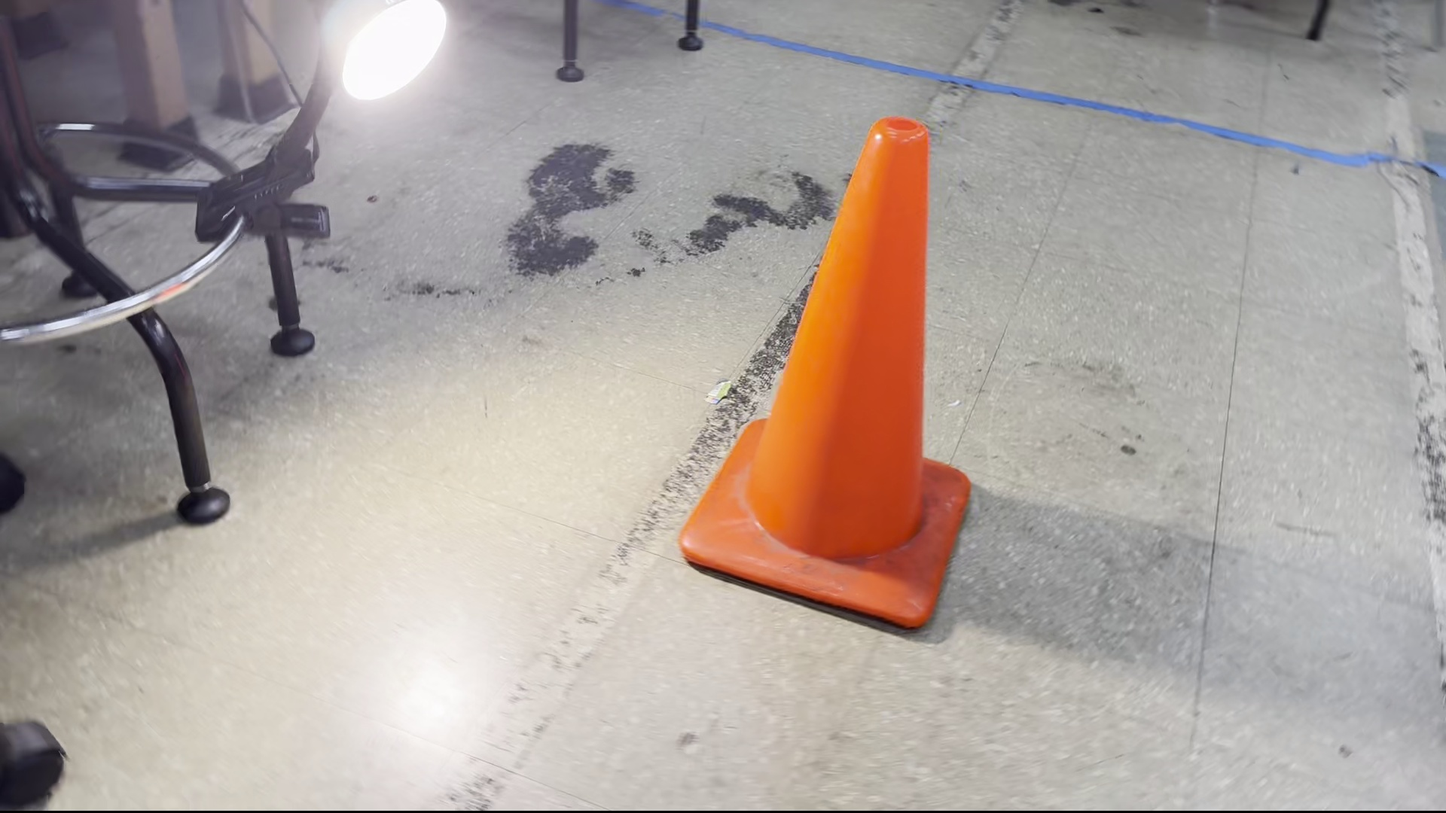traffic_cone: (677, 115, 972, 632)
